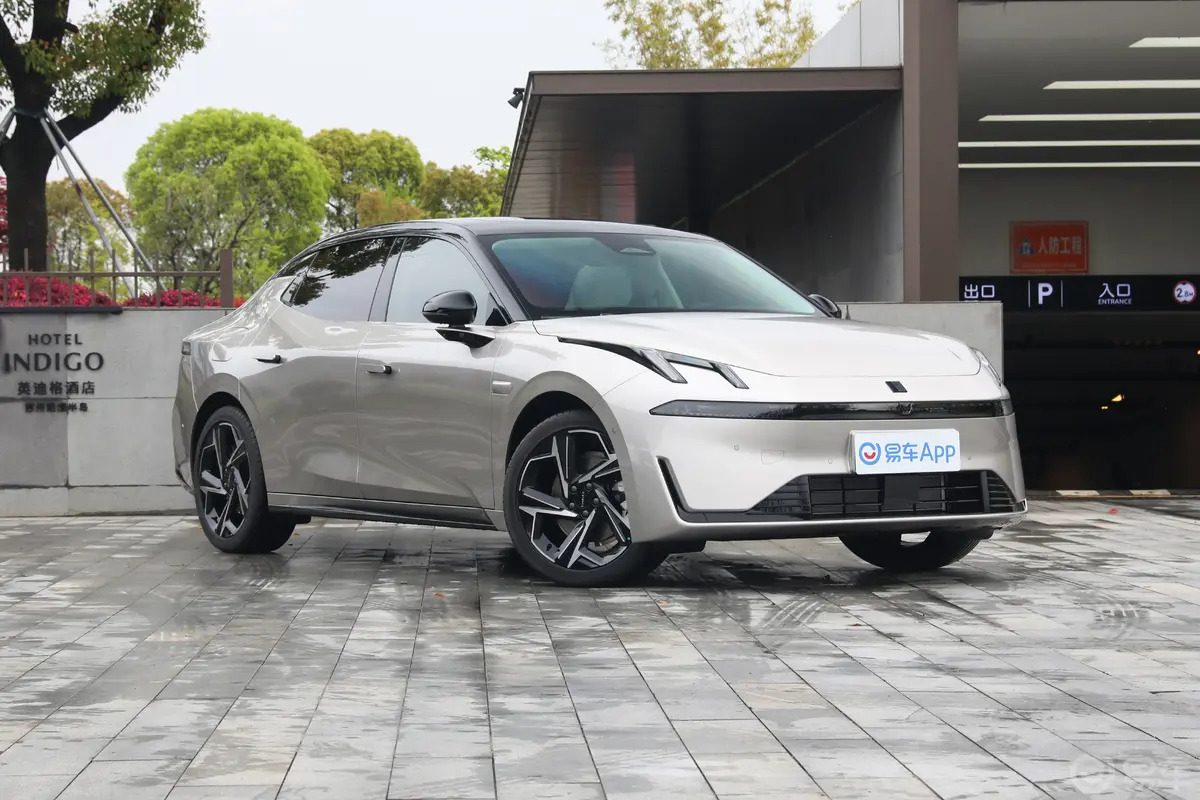LINK&CO: (886, 381, 906, 392)
